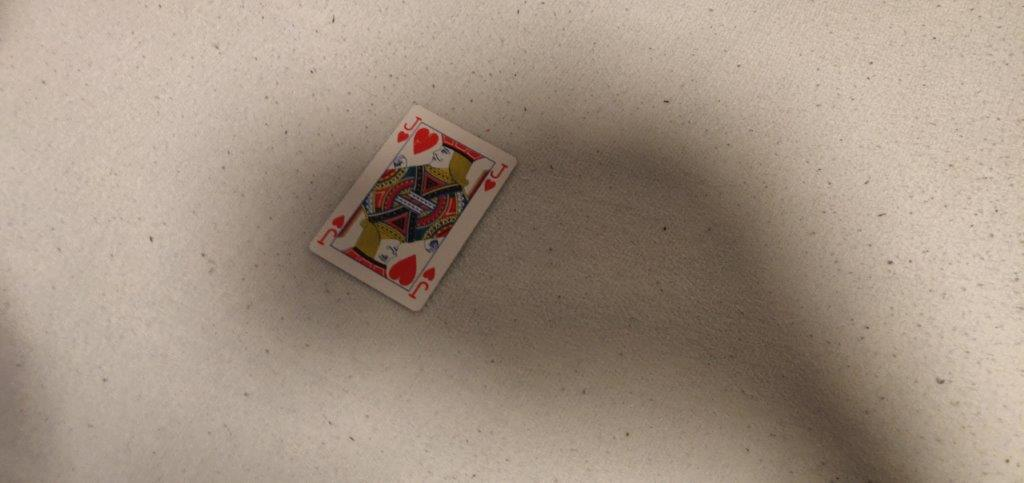JH: (482, 158, 514, 197), (394, 110, 422, 143)
